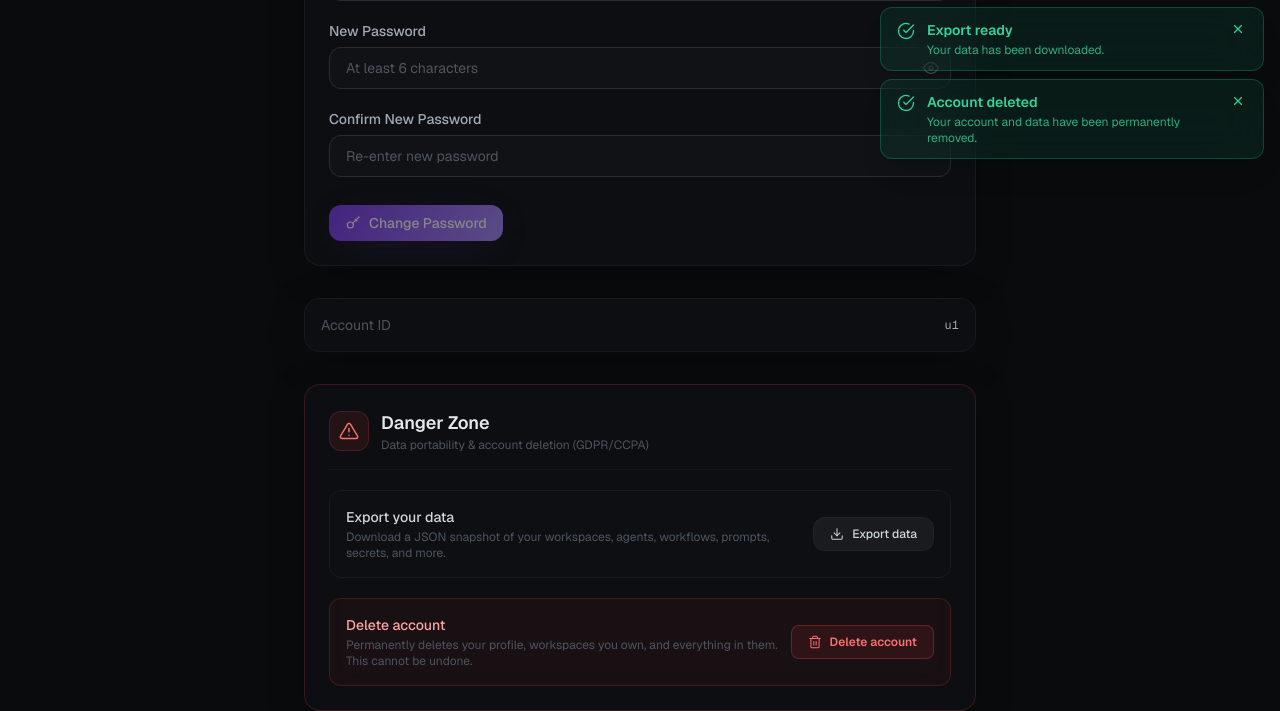
Scenario: Profile — Danger Zone › surfaces a delete error without signing out
The width and height of the screenshot is (1280, 711).
(page scrolled)
Click the button "Delete account" at (862, 642), box [790,625,934,659]
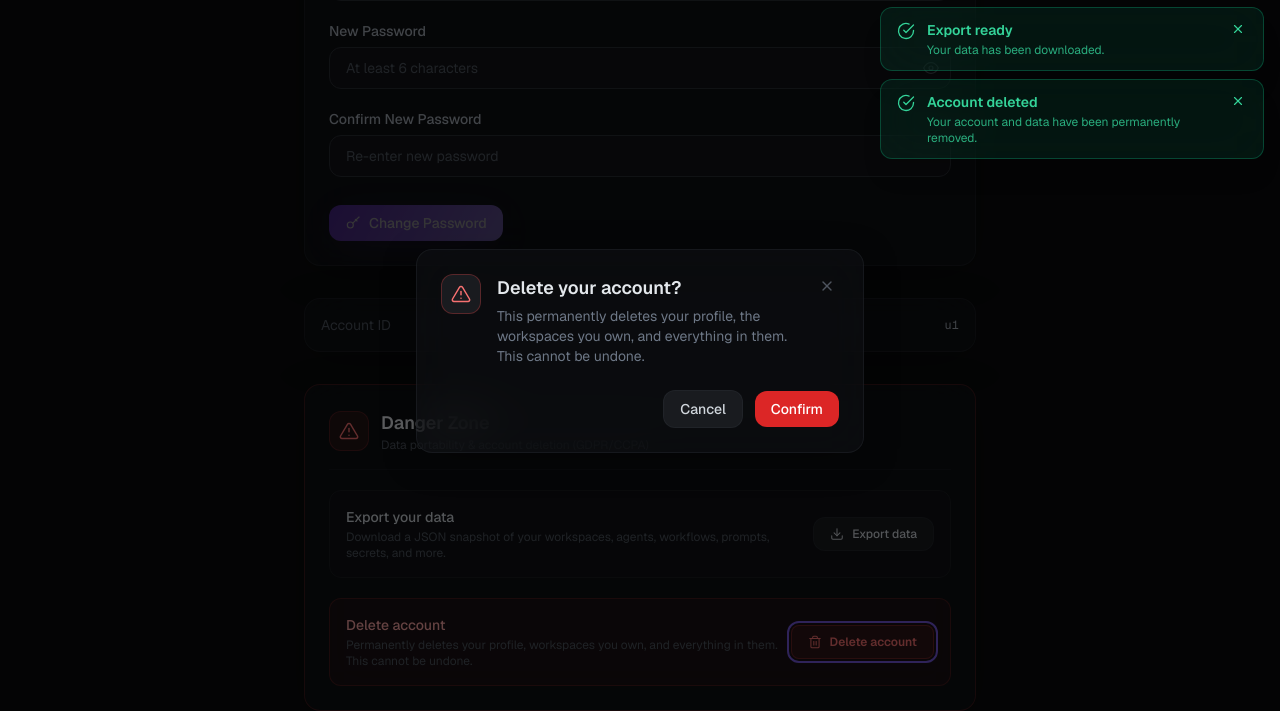
expect the heading "Delete your account?" is shown: met, box [497,276,681,299]
Click the button "Confirm" at (797, 409), box [755,391,839,427]
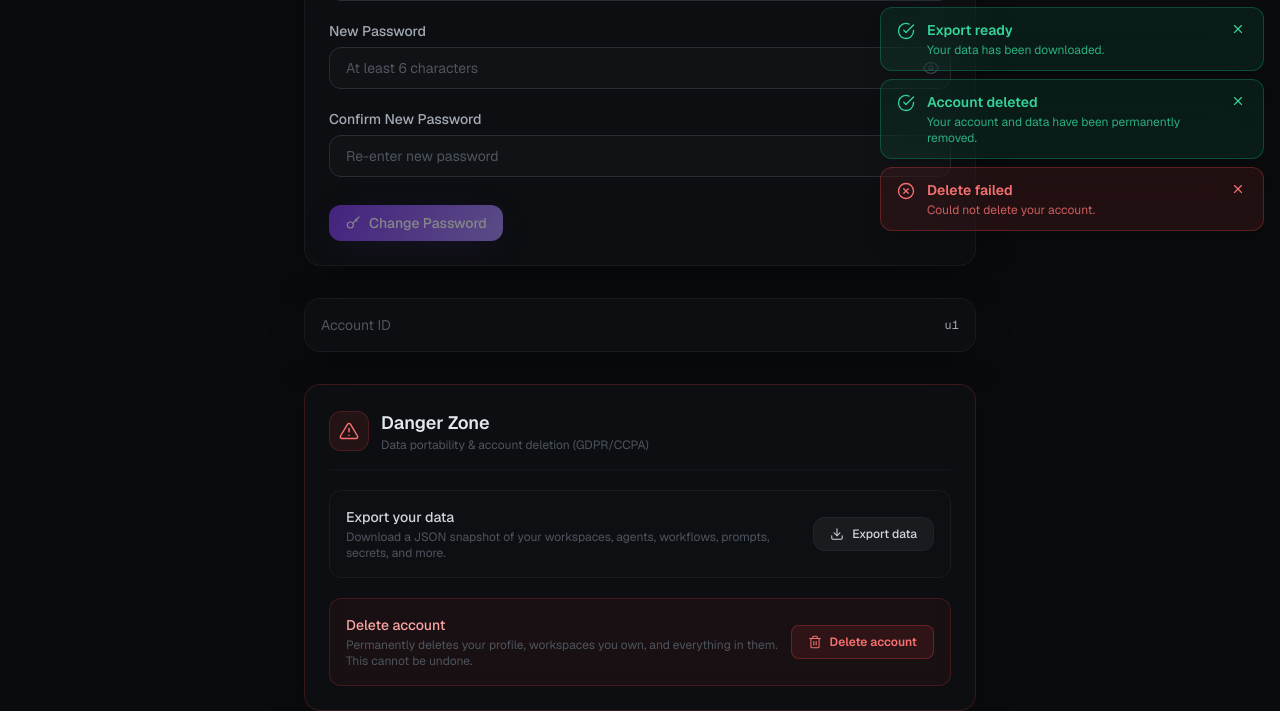
expect the text "Delete failed" is shown: met, box [927,181,1013,199]
expect the text "Could not delete your account." is shown: met, box [927,202,1095,218]
